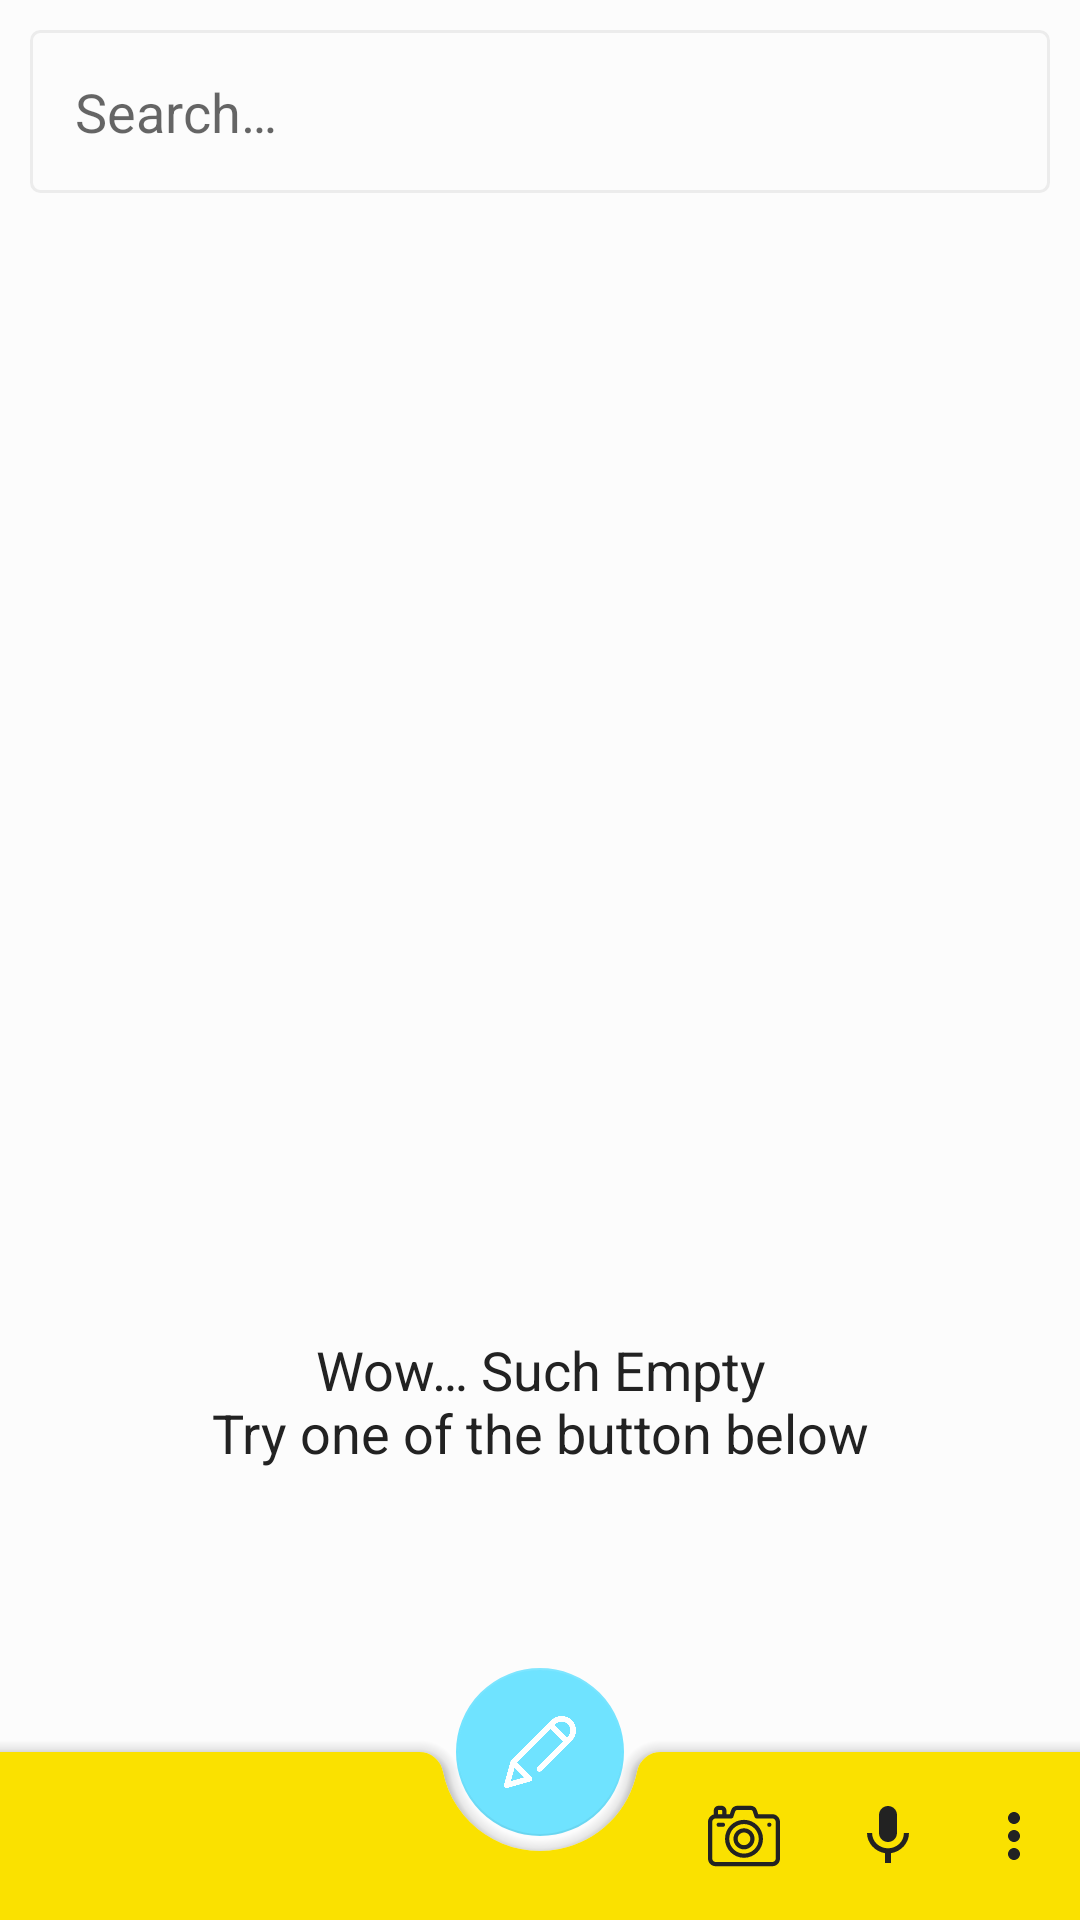

Locate icon controls on the screen. Image size 1080*1920, boxes as (x1, y1, x2, y2).
edit: (456, 1668, 624, 1836)
